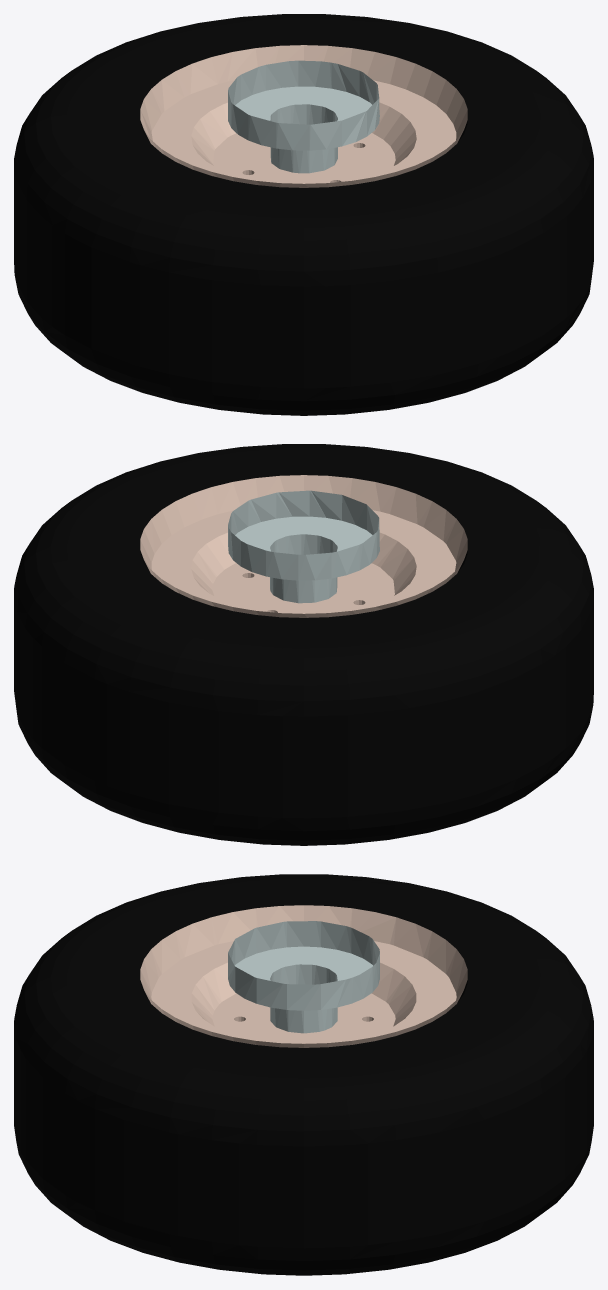
The model's file is seekurjr_wheel.obj.
The picture shows the model from 3 angles, top to bottom: view 1: azimuth 30°, elevation 25°; view 2: azimuth 150°, elevation 25°; view 3: azimuth 270°, elevation 25°; orthographic projection.
Visible parts, largest first — view 1: seekurjr_wheel; view 2: seekurjr_wheel; view 3: seekurjr_wheel.
Part boxes in pixels (bbox=[...]): seekurjr_wheel: bbox=[14, 14, 593, 415]; seekurjr_wheel: bbox=[14, 444, 593, 845]; seekurjr_wheel: bbox=[14, 874, 593, 1275].
Bounding box in the file's own units: 0.406 × 0.1693 × 0.406.
